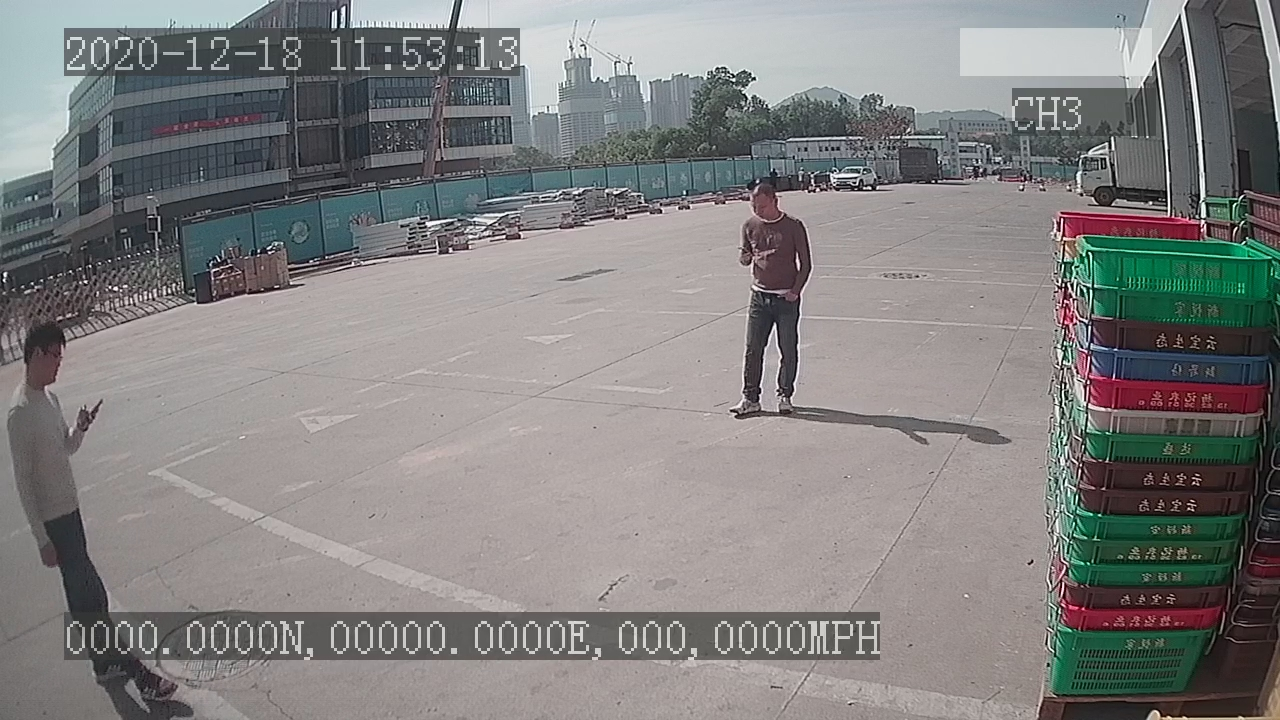person: (718, 179, 817, 427)
